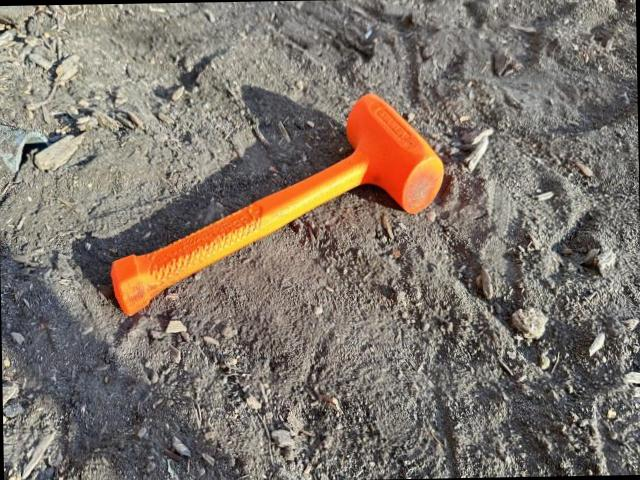hammer: (105, 92, 448, 316)
